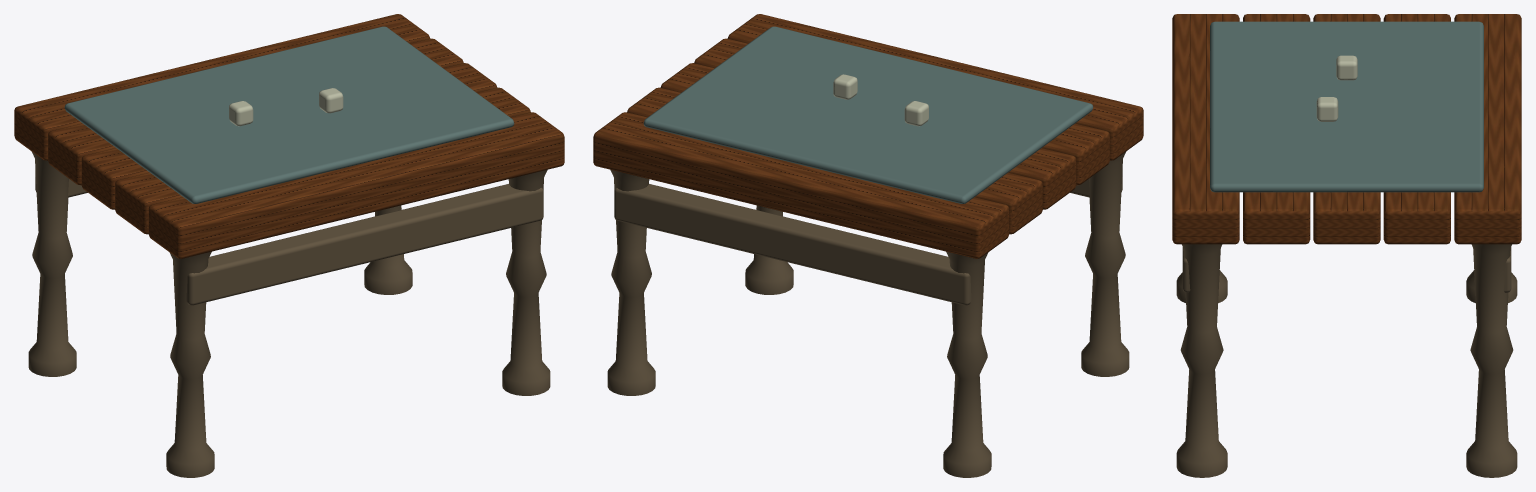
Rendered from undercity-sewers-and-thieves-den-dice-table-8af0f535__27246.glb.
The picture shows the model from 3 angles, left to right: view 1: azimuth 30°, elevation 25°; view 2: azimuth 150°, elevation 25°; view 3: azimuth 270°, elevation 25°; orthographic projection. The views are drawn at different scales.
Visible parts, largest first — view 1: dice-table; view 2: dice-table; view 3: dice-table.
Boxes of the visible parts, box(x1,y1,x2,y2) form: dice-table: box(14, 14, 564, 477); dice-table: box(593, 14, 1143, 477); dice-table: box(1172, 14, 1521, 477).
Bounding box in the file's own units: 1.2 × 0.84 × 0.892.
4 materials, 1 textured.
